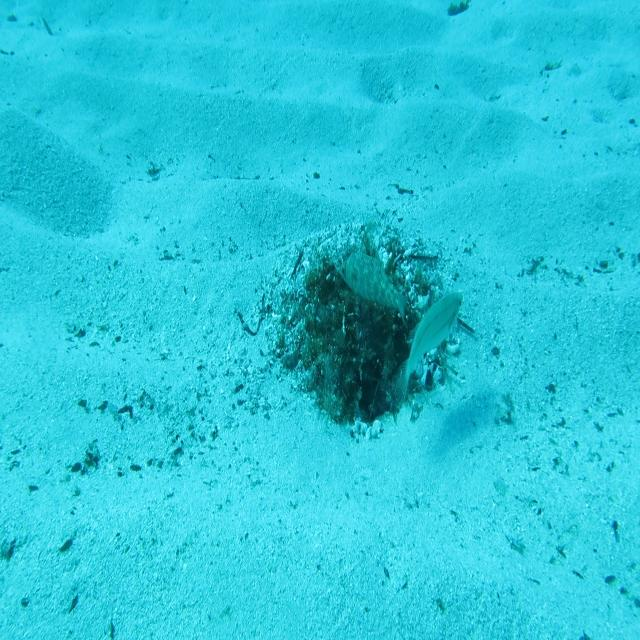INSF: (335, 244, 407, 324)
core_nest: (328, 281, 384, 330)
female: (390, 288, 465, 412)
nest: (255, 205, 474, 453)
vegetation: (447, 0, 472, 17)
